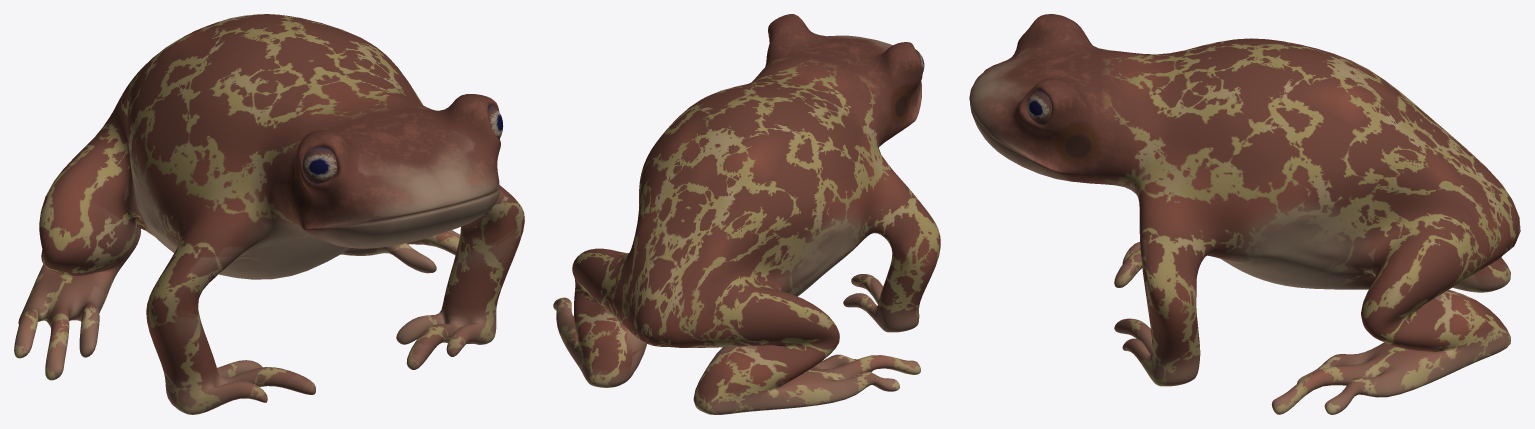
File: Rana ladradora amarilla.glb
The picture shows the model from 3 angles, left to right: view 1: azimuth 30°, elevation 25°; view 2: azimuth 150°, elevation 25°; view 3: azimuth 270°, elevation 25°; orthographic projection. The views are drawn at different scales.
Parts seen in each view (by area): view 1: Craugastor augusti; view 2: Craugastor augusti; view 3: Craugastor augusti.
Boxes of the visible parts, x1,y1,x2,y2 form: Craugastor augusti: (14, 14, 524, 414); Craugastor augusti: (553, 14, 940, 414); Craugastor augusti: (969, 14, 1520, 414).
Size of the model in its own units: 2.92 by 1.89 by 3.46.
Materials: 2 (2 with a texture image).
